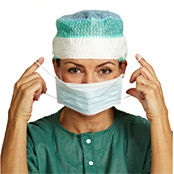face_mask: (57, 40, 119, 115)
